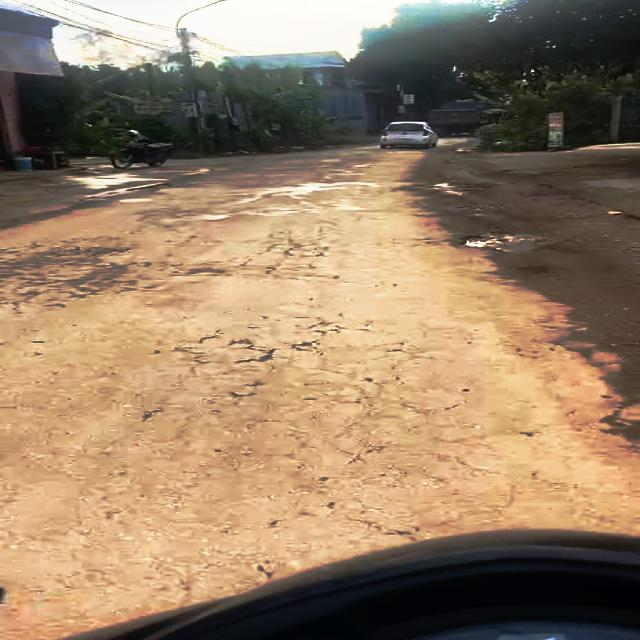pothole: (560, 318, 640, 446), (461, 227, 557, 255), (428, 179, 482, 198)
